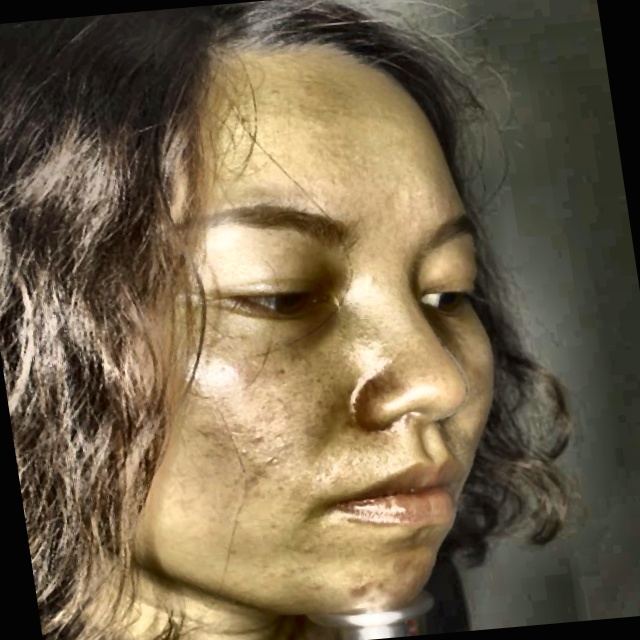comedone: (341, 578, 371, 600), (386, 551, 417, 572)
